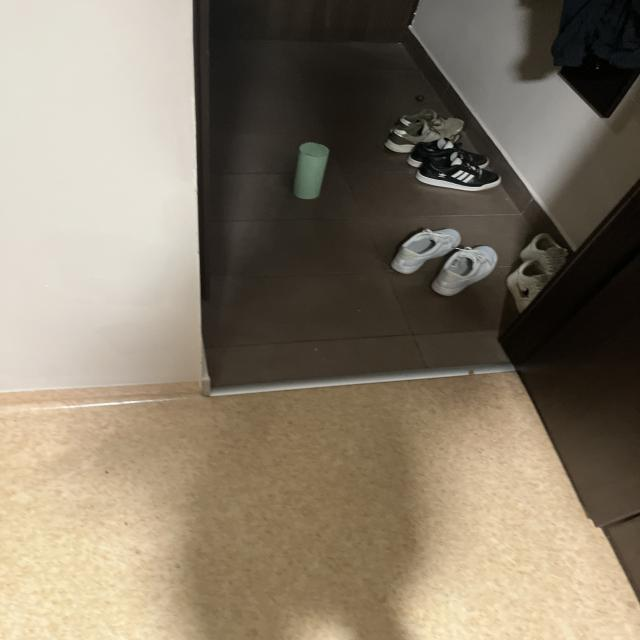meta: (293, 142, 329, 199)
